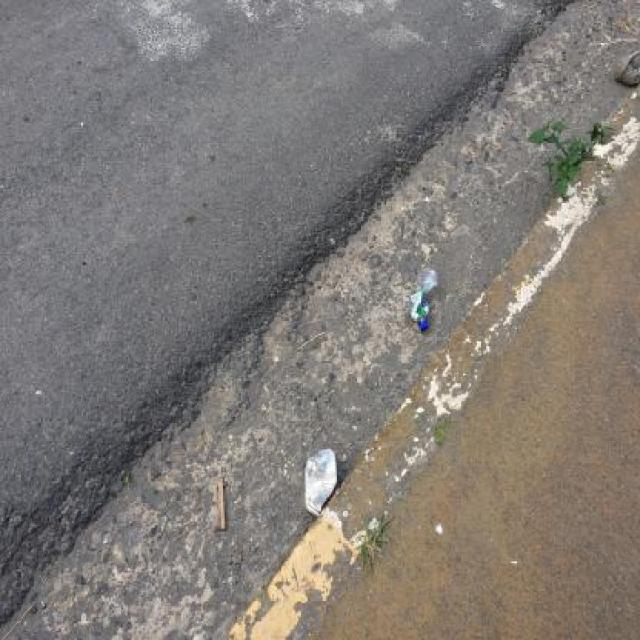metal: (305, 448, 337, 518)
plastic: (409, 268, 437, 330)
